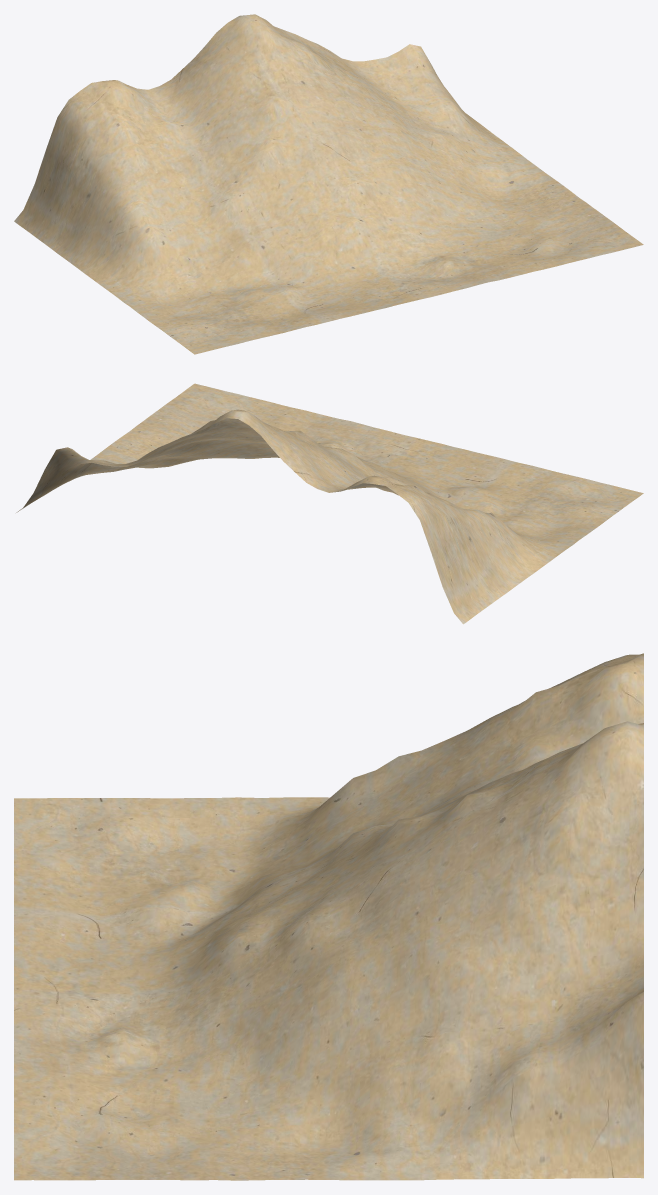
The model's file is lo_talus.glb.
3 renders of one model, top to bottom at view 1: azimuth 30°, elevation 25°; view 2: azimuth 150°, elevation 25°; view 3: azimuth 270°, elevation 25°, orthographic. The views are drawn at different scales.
Visible parts, largest first — view 1: lo_talus; view 2: lo_talus; view 3: lo_talus.
Boxes of the visible parts, x1=… form: lo_talus: x1=14, y1=14, x2=643, y2=354; lo_talus: x1=16, y1=383, x2=643, y2=624; lo_talus: x1=14, y1=653, x2=643, y2=1180.
Size of the model in its own units: 4.94 by 1.7 by 3.44.
Materials: 1 (1 with a texture image).
